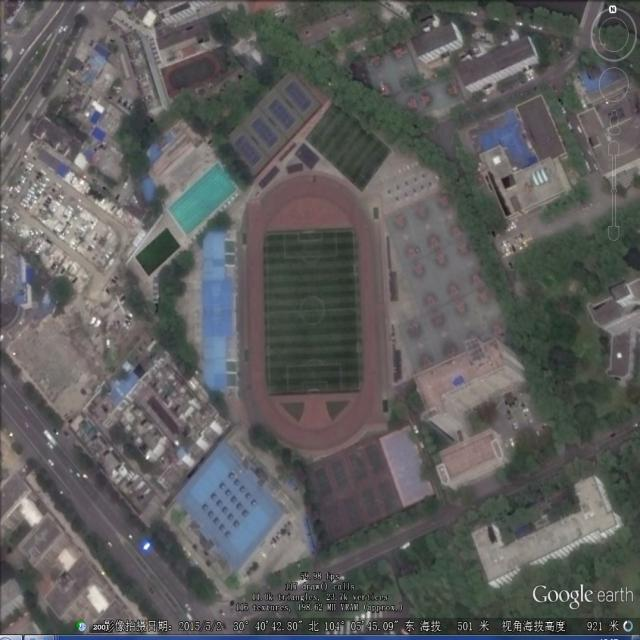playground: (243, 172, 383, 453)
